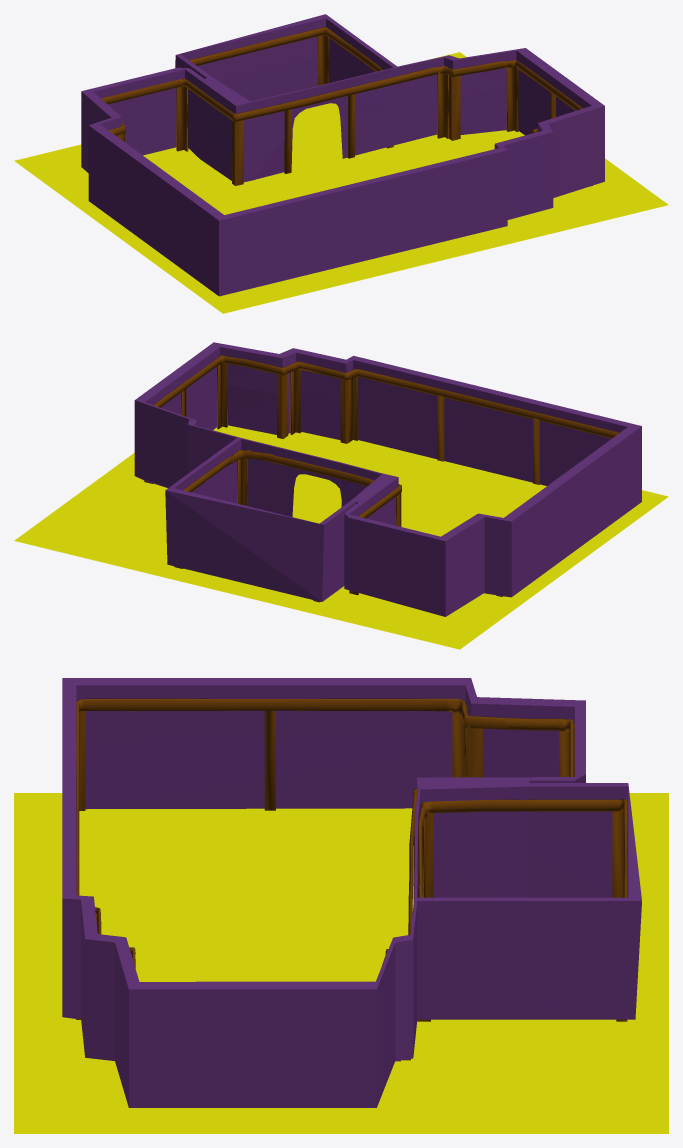
The model's file is Wizard_Hub.fbx.
The picture shows the model from 3 angles, top to bottom: view 1: azimuth 30°, elevation 25°; view 2: azimuth 150°, elevation 25°; view 3: azimuth 270°, elevation 25°; orthographic projection. The views are drawn at different scales.
Parts seen in each view (by area): view 1: Walls, pPlane1, large_room_trim, inner_room_trim, Corner1, Corner8, Corner7, Corner, Corner6, Corner15, Pillar; view 2: Walls, pPlane1, large_room_trim, inner_room_trim, Corner12, Corner9, Corner10, Corner11, Corner13, Pillar3, Corner16, Pillar4; view 3: Walls, pPlane1, large_room_trim, inner_room_trim, Pillar5, Corner17, Corner14, Corner3, Corner4, Corner5.
Boxes of the visible parts, box(x1,y1,x2,y2) form: Walls: box(81, 14, 604, 296); pPlane1: box(14, 52, 668, 313); large_room_trim: box(101, 59, 582, 135); inner_room_trim: box(189, 27, 382, 71); Corner1: box(176, 86, 188, 151); Corner8: box(506, 66, 518, 131); Corner7: box(437, 70, 448, 138); Corner: box(232, 120, 243, 185); Corner6: box(449, 75, 460, 140); Corner15: box(317, 35, 329, 85); Pillar: box(284, 109, 291, 173); Walls: box(134, 342, 641, 616); pPlane1: box(14, 425, 668, 649); large_room_trim: box(153, 355, 619, 518); inner_room_trim: box(183, 450, 373, 492); Corner12: box(277, 373, 288, 438); Corner9: box(217, 363, 227, 429); Corner10: box(290, 369, 301, 434); Corner11: box(349, 376, 358, 442); Corner13: box(340, 379, 348, 443); Pillar3: box(437, 395, 444, 461); Corner16: box(237, 450, 247, 505); Pillar4: box(533, 417, 539, 484); Walls: box(62, 678, 641, 1107); pPlane1: box(14, 793, 668, 1133); large_room_trim: box(76, 698, 573, 967); inner_room_trim: box(418, 799, 627, 897); Pillar5: box(264, 710, 275, 810); Corner17: box(612, 811, 623, 897); Corner14: box(422, 813, 433, 897); Corner3: box(452, 703, 467, 777); Corner4: box(467, 722, 482, 777); Corner5: box(79, 711, 85, 810).
Bounding box in the file's own units: 5674 × 961 × 4609.
